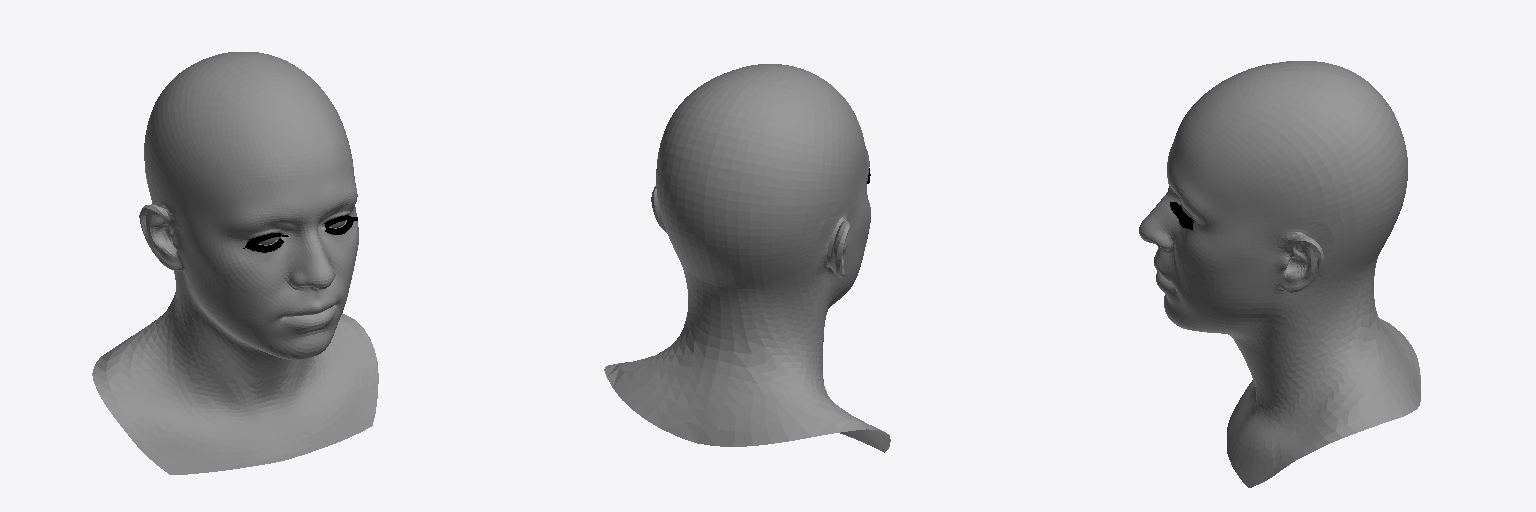
Rendered from identity003.obj.
The picture shows the model from 3 angles: view 1: azimuth 30°, elevation 25°; view 2: azimuth 150°, elevation 25°; view 3: azimuth 270°, elevation 25°; orthographic projection.
Bounding box in the file's own units: 25.01 × 33.37 × 22.96.